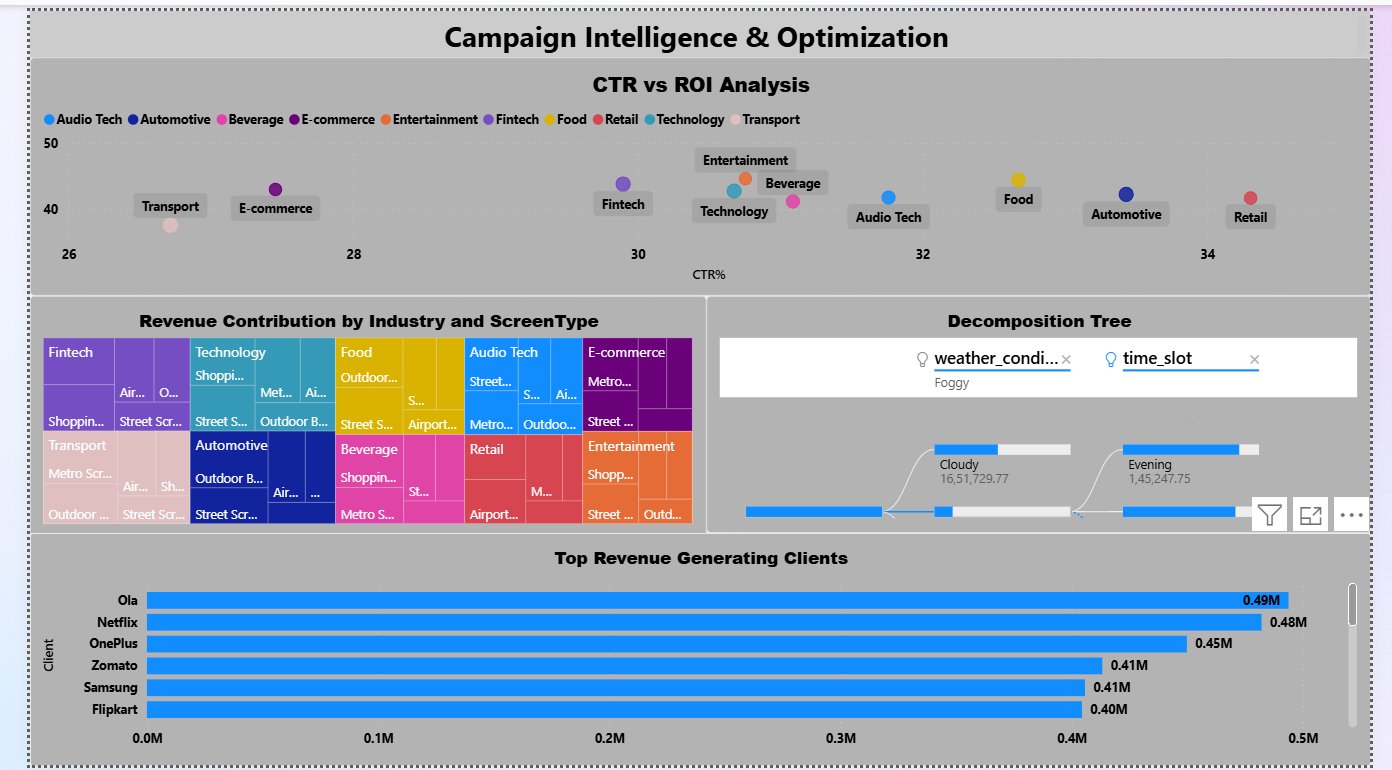

What the dashboard file says about the page in this screenshot:
{"tool":"powerbi","page":{"name":"Page 2","canvas":[1280,720],"ordinal":1},"visuals":[{"type":"textbox","box":[0,0,1280.4,44.5],"z":0},{"type":"scatterChart","title":"CTR vs ROI Analysis","fields":{"Size":["Sum(lemma_industry_grade_doooh_dataset.revenue)"],"Series":["lemma_industry_grade_doooh_dataset.Industry"],"X":["lemma_industry_grade_doooh_dataset.CTR%"],"Y":["lemma_industry_grade_doooh_dataset.Average ROI"]},"box":[0,44.5,1280.4,227.5],"z":1000},{"type":"treemap","title":"Revenue Contribution by Industry and ScreenType","fields":{"Group":["lemma_industry_grade_doooh_dataset.Industry"],"Values":["lemma_industry_grade_doooh_dataset.total_revenue"],"Details":["lemma_industry_grade_doooh_dataset.ScreenType"]},"box":[0,272,645.8,230.6],"z":2000},{"type":"decompositionTreeVisual","title":"Decomposition Tree","fields":{"Analyze":["lemma_industry_grade_doooh_dataset.total_revenue"],"ExplainBy":["lemma_industry_grade_doooh_dataset.weather_condition","lemma_industry_grade_doooh_dataset.time_slot","lemma_industry_grade_doooh_dataset.AudienceType","lemma_industry_grade_doooh_dataset.Industry","lemma_industry_grade_doooh_dataset.ScreenType"]},"box":[645.8,272,634.7,225.9],"z":3000},{"type":"barChart","title":"Top Revenue Generating Clients","fields":{"Category":["lemma_industry_grade_doooh_dataset.Client"],"Y":["lemma_industry_grade_doooh_dataset.total_revenue"]},"box":[0,497.9,1280.4,222.7],"z":4000}]}

Visuals, with their boxes in screenshot pixels (x1, y1, x2, y2), scaled from the page's 1280x720 canvas onto the 1392x770 screenshot:
textbox: {"x1": 0, "y1": 0, "x2": 1391, "y2": 48}
"CTR vs ROI Analysis" scatterChart: {"x1": 0, "y1": 48, "x2": 1391, "y2": 291}
"Revenue Contribution by Industry and ScreenType" treemap: {"x1": 0, "y1": 291, "x2": 702, "y2": 538}
"Decomposition Tree" decompositionTreeVisual: {"x1": 702, "y1": 291, "x2": 1391, "y2": 532}
"Top Revenue Generating Clients" barChart: {"x1": 0, "y1": 532, "x2": 1391, "y2": 769}
